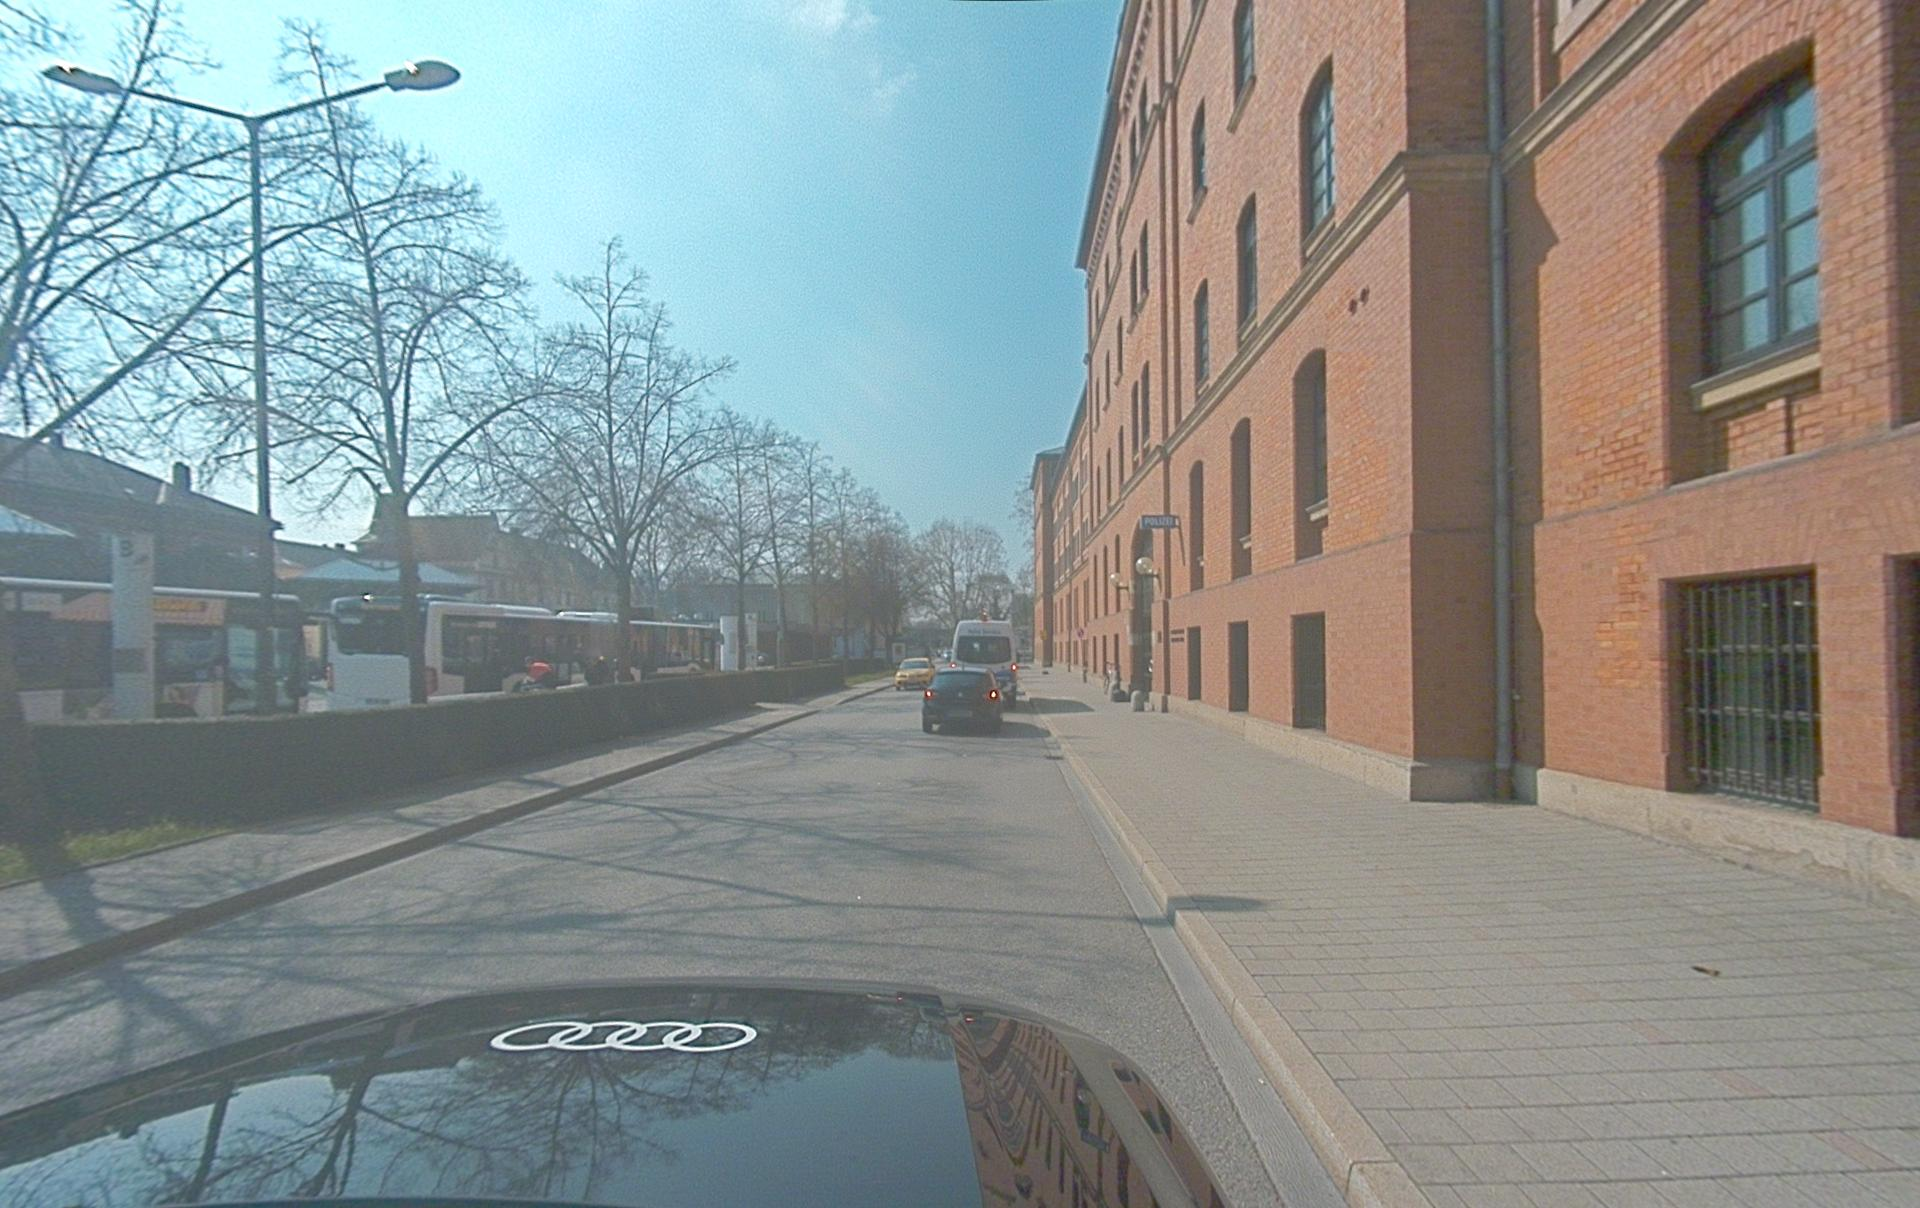car: (922, 668, 1003, 733), (895, 657, 936, 692)
traffic sign: (1138, 514, 1180, 530)
